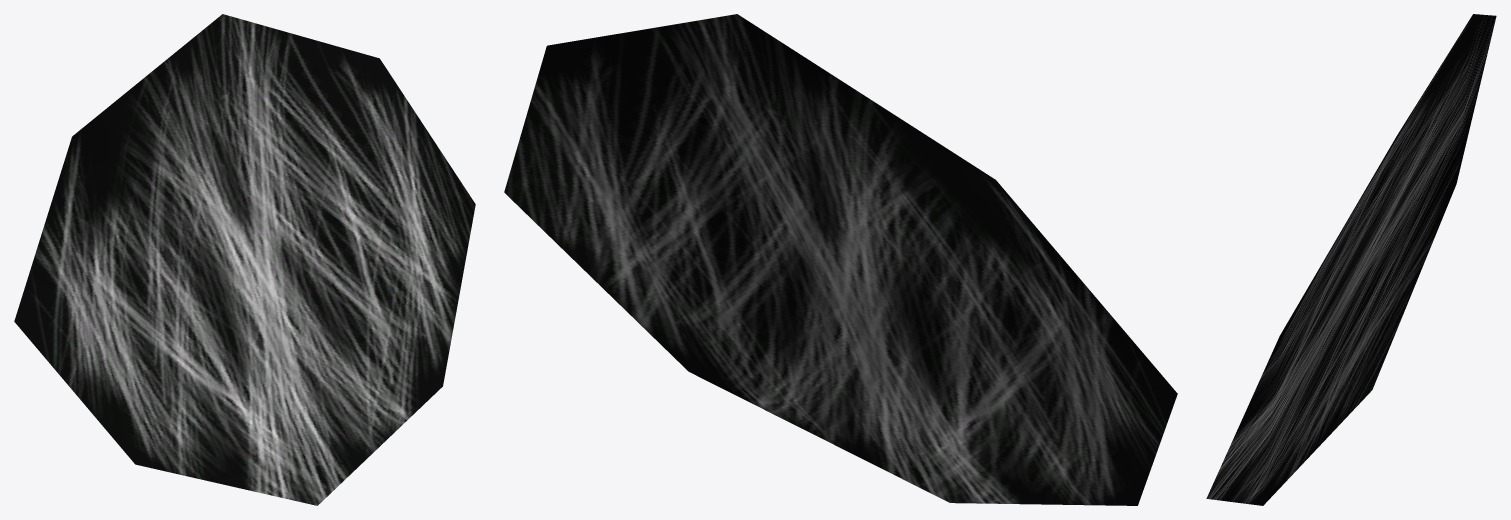
Rendered from MIRKWOOD_SPIDERWEB_COVERS16.fbx.
3 renders of one model, left to right at view 1: azimuth 30°, elevation 25°; view 2: azimuth 150°, elevation 25°; view 3: azimuth 270°, elevation 25°, orthographic. The views are drawn at different scales.
Parts seen in each view (by area): view 1: MIRKWOOD_SPIDERWEB_COVERS16; view 2: MIRKWOOD_SPIDERWEB_COVERS16; view 3: MIRKWOOD_SPIDERWEB_COVERS16.
Boxes of the visible parts, x1=… form: MIRKWOOD_SPIDERWEB_COVERS16: x1=14, y1=14, x2=475, y2=505; MIRKWOOD_SPIDERWEB_COVERS16: x1=504, y1=14, x2=1177, y2=505; MIRKWOOD_SPIDERWEB_COVERS16: x1=1206, y1=14, x2=1496, y2=505.
Size of the model in its own units: 20882 by 17714 by 9385.
1 material, 1 textured.
